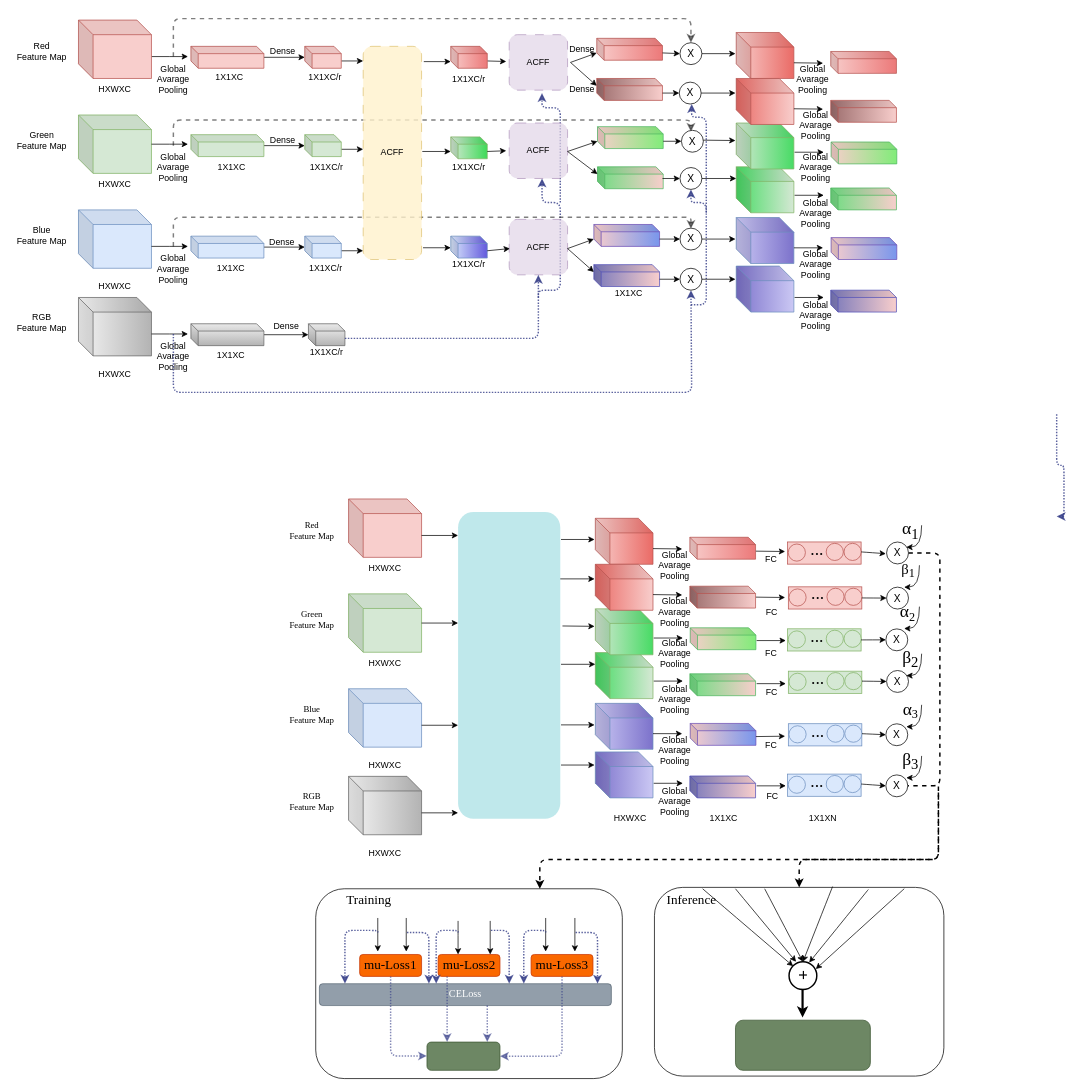
Some shapes in this 1083 by 1091 pixel diagram are drawn without their labels. The shapes that lost their labels are listed below. From the top down, each one's centre as x and y in pixels, then its label:
the point at 509,665: Self- Attention Fusion Module
the point at 463,1055: Loss
the point at 802,1044: classification
